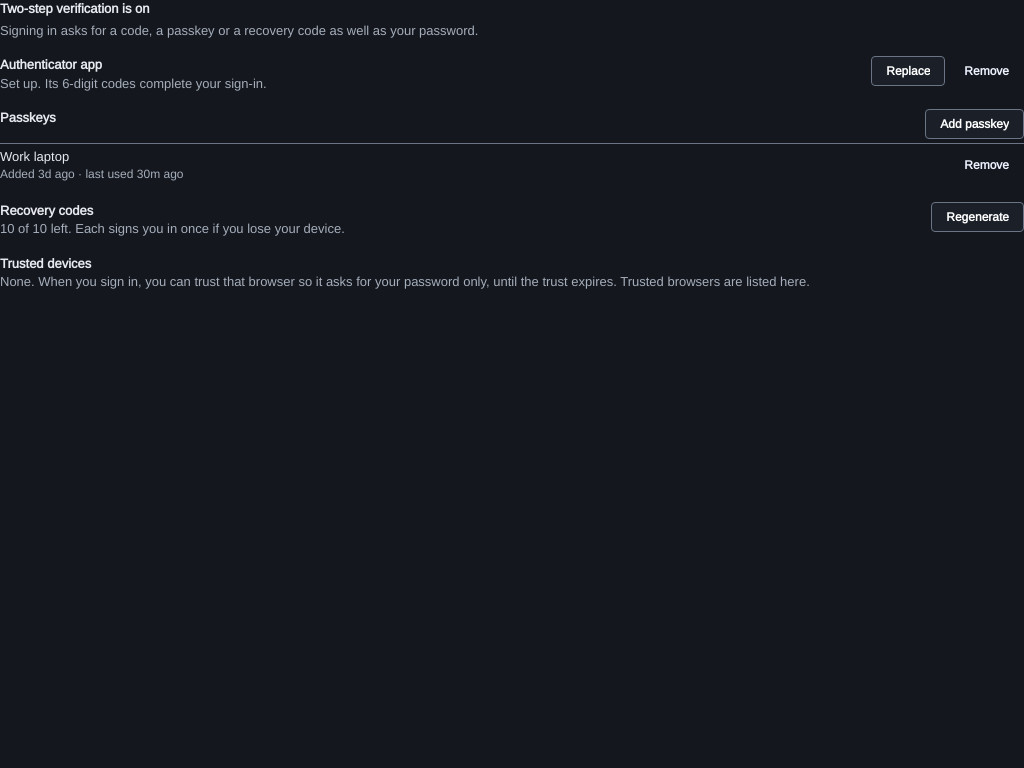
Scenario: TwoStepSection › asks for a fresh sign-in inside the confirmation when the server says so, then removes the passkey
This screenshot has width=1024, height=768.
Click the button with aria-label "Remove passkey Work laptop".
click(987, 165)  # box [949,150,1023,180]
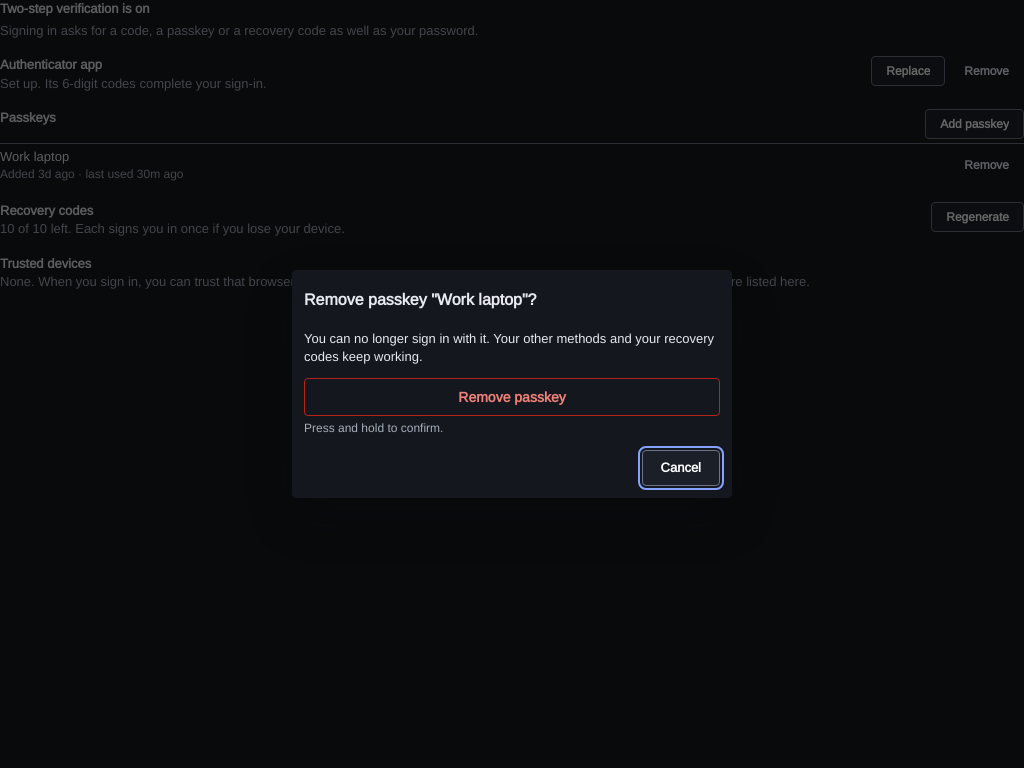
expect the text "Your other methods and your recovery codes keep working" is shown: met, box [304,330,714,365]
Press the mouse on the button "Remove passkey Remove passkey" at (512, 398), box [304,378,720,416]
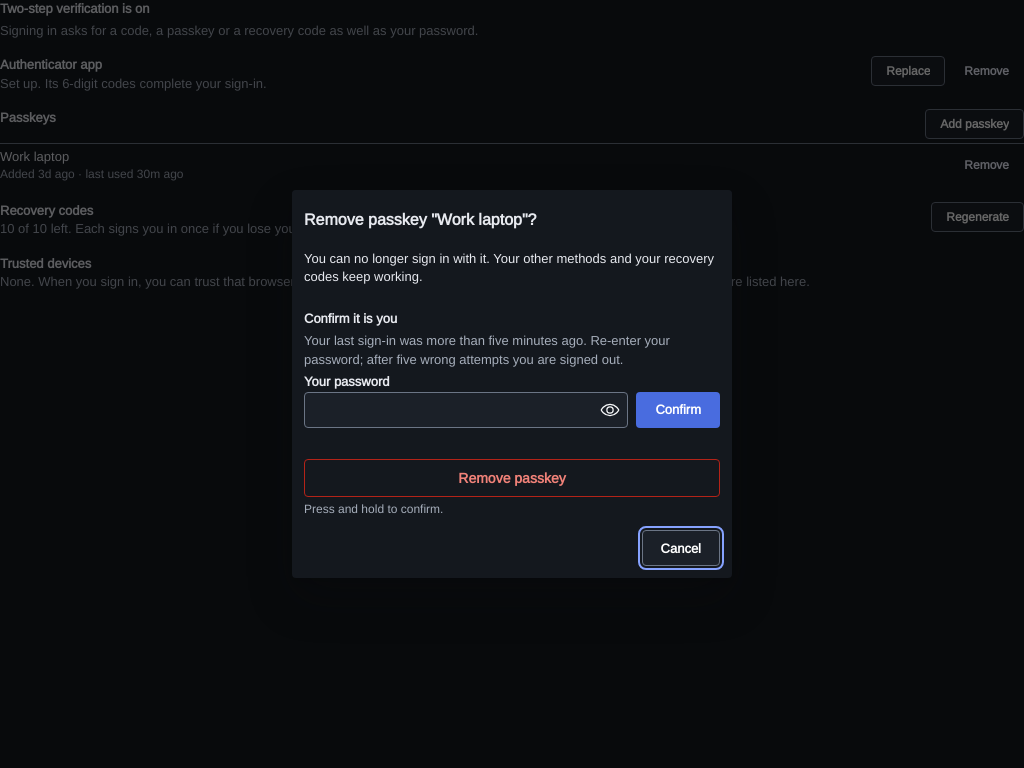
expect the password field labelled "Your password" is shown: met, box [305,393,628,427]
